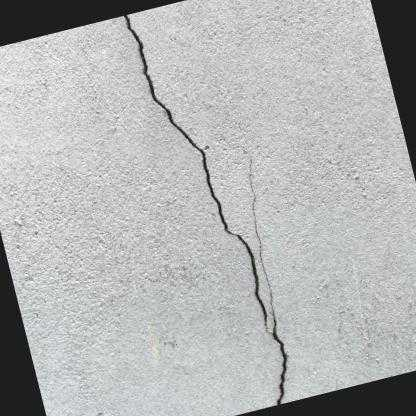crack: (122, 14, 286, 406)
